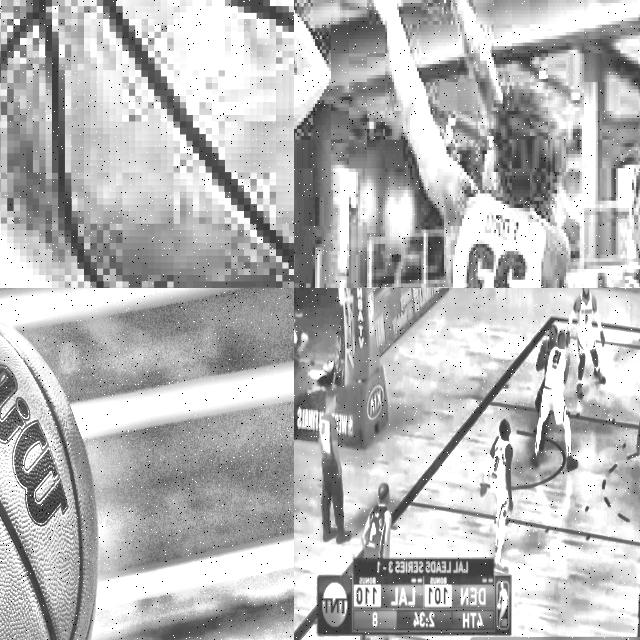Basketball: (0, 319, 98, 640)
